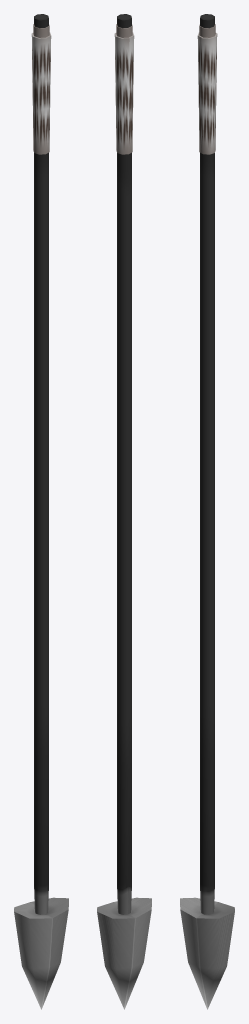
The model's file is Arrow.fbx.
3 views of the same model, side by side, from view 1: azimuth 30°, elevation 25°; view 2: azimuth 210°, elevation 25°; view 3: azimuth 330°, elevation 25° (orthographic).
Parts seen in each view (by area): view 1: Arrow; view 2: Arrow; view 3: Arrow.
Part boxes in pixels (bbox=[...]): Arrow: bbox=[14, 14, 68, 1009]; Arrow: bbox=[97, 14, 151, 1009]; Arrow: bbox=[180, 14, 234, 1009].
Size of the model in its own units: 13.96 by 241 by 9.78.
1 material, 1 textured.
